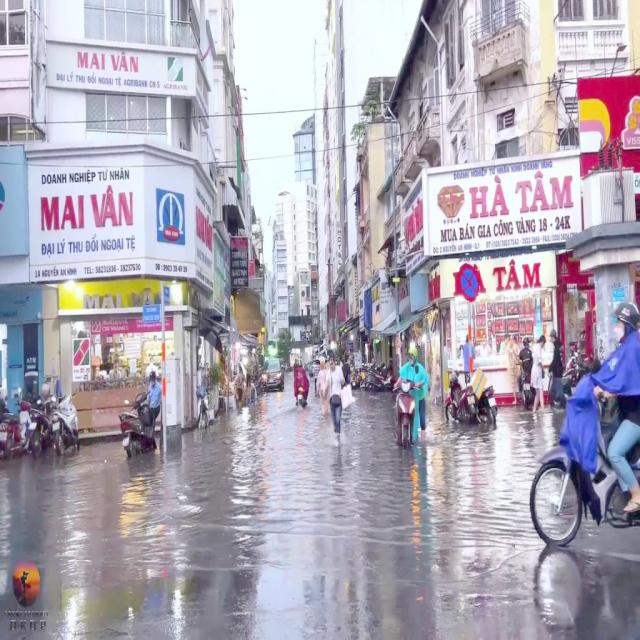cam_dung_xe_va_do_xe: (458, 262, 480, 302)
